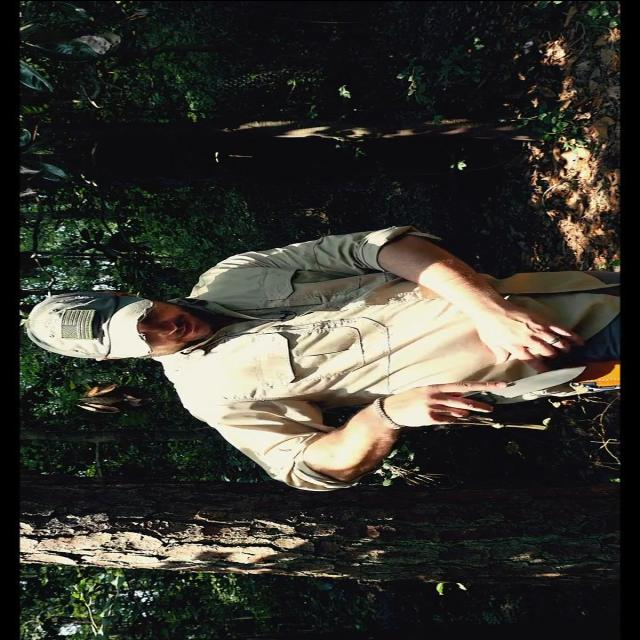Sharp-Object: (436, 364, 590, 416)
